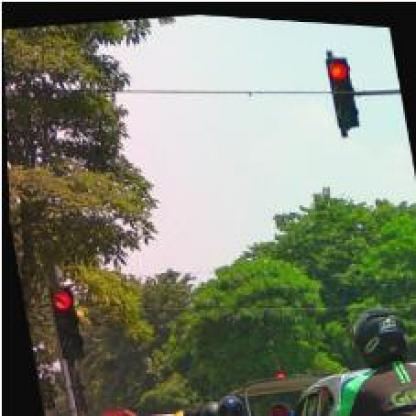red: (45, 284, 80, 361), (325, 49, 360, 123)
